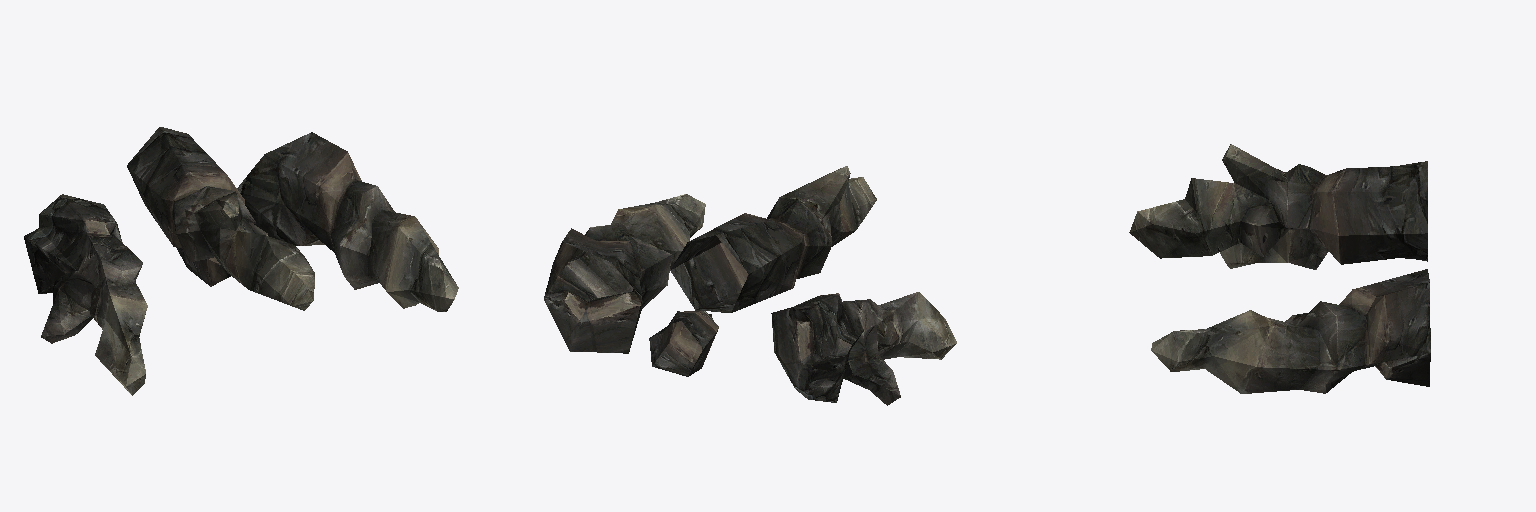
3 renders of one model, left to right at view 1: azimuth 30°, elevation 25°; view 2: azimuth 150°, elevation 25°; view 3: azimuth 270°, elevation 25°, orthographic.
Visible parts, largest first — view 1: juqing_fuben_253_jushi_03_a01; view 2: juqing_fuben_253_jushi_03_a01; view 3: juqing_fuben_253_jushi_03_a01.
Boxes of the visible parts, x1,y1,x2,y2 form: juqing_fuben_253_jushi_03_a01: [24, 127, 458, 395]; juqing_fuben_253_jushi_03_a01: [544, 166, 956, 405]; juqing_fuben_253_jushi_03_a01: [1129, 144, 1430, 393].
Size of the model in its own units: 384 by 180 by 288.
1 materials, 1 textured.